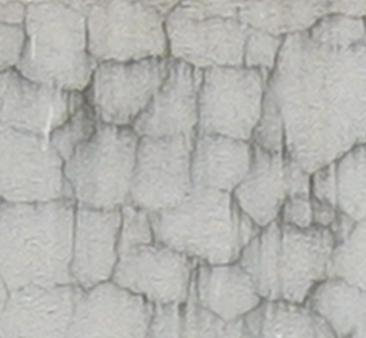fissura: (3, 4, 366, 338)
